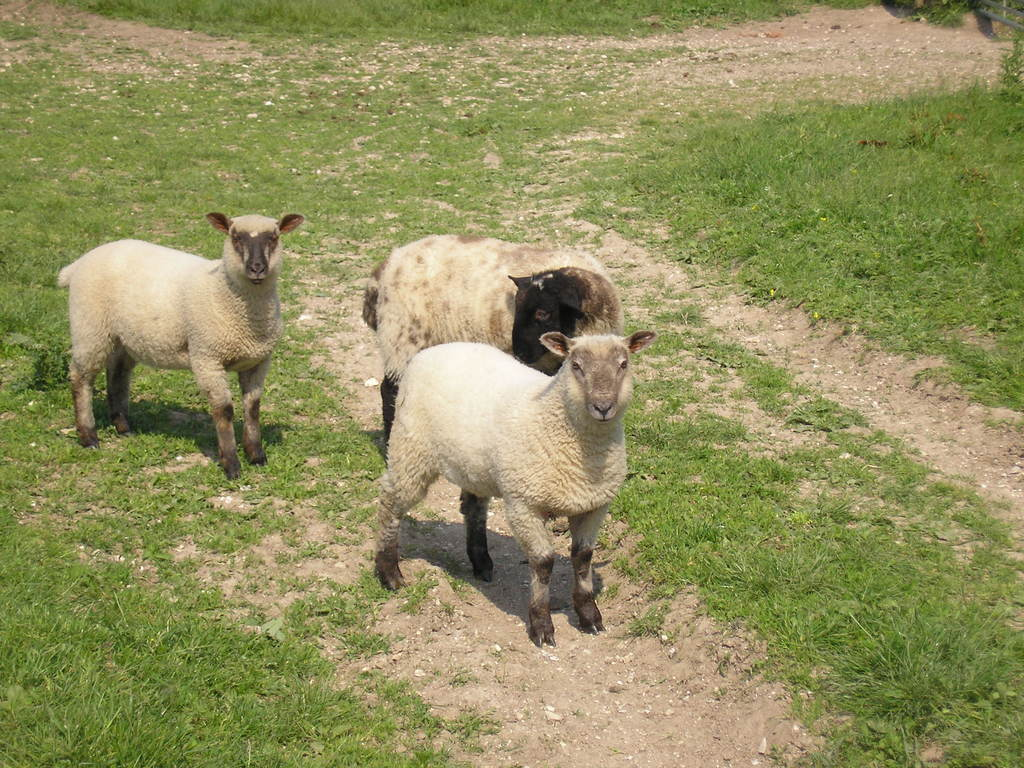sheep: (376, 330, 657, 645), (51, 207, 305, 478)
